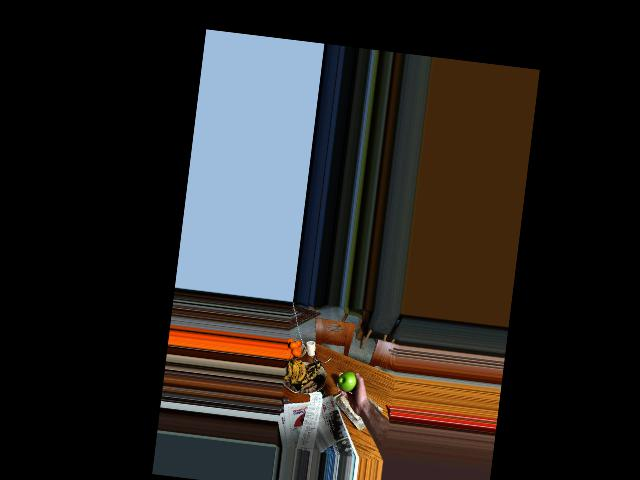apple: (338, 369, 360, 394)
